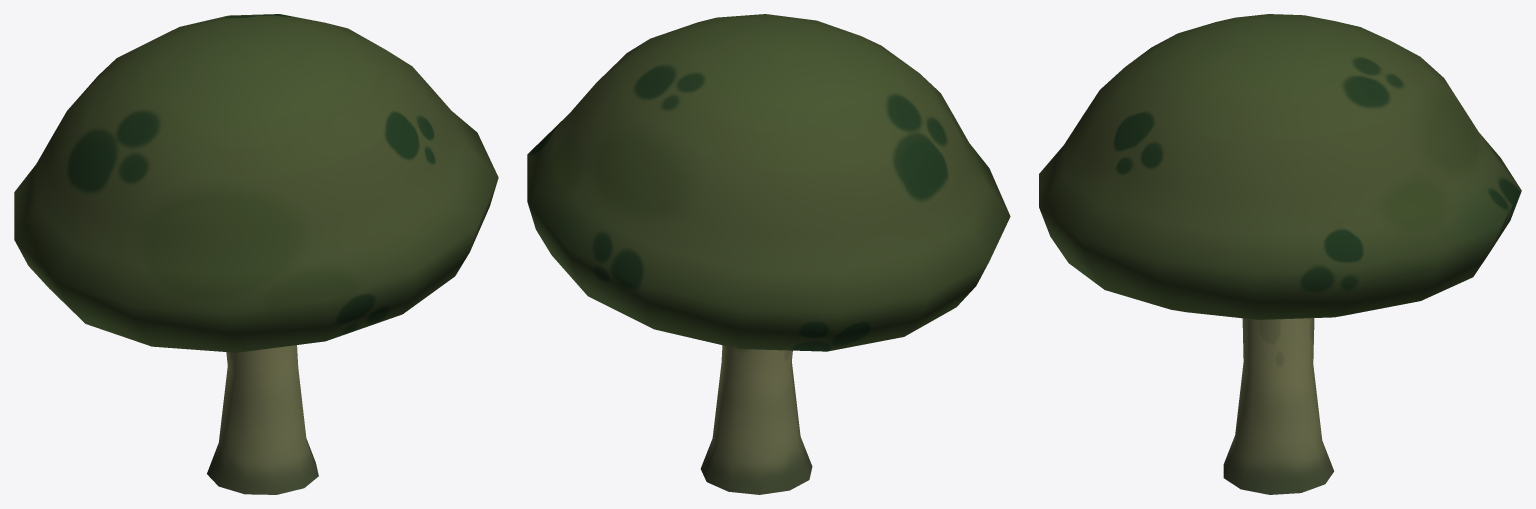
Rendered from mushroom-7.fbx.
3 views of the same model, side by side, from view 1: azimuth 30°, elevation 25°; view 2: azimuth 150°, elevation 25°; view 3: azimuth 270°, elevation 25° (orthographic).
Visible parts, largest first — view 1: Sphere.001; view 2: Sphere.001; view 3: Sphere.001.
Boxes of the visible parts, x1=… form: Sphere.001: x1=14, y1=14, x2=498, y2=494; Sphere.001: x1=527, y1=14, x2=1010, y2=494; Sphere.001: x1=1039, y1=14, x2=1521, y2=494.
Size of the model in its own units: 1455 by 1425 by 1447.
2 materials, 2 textured.
